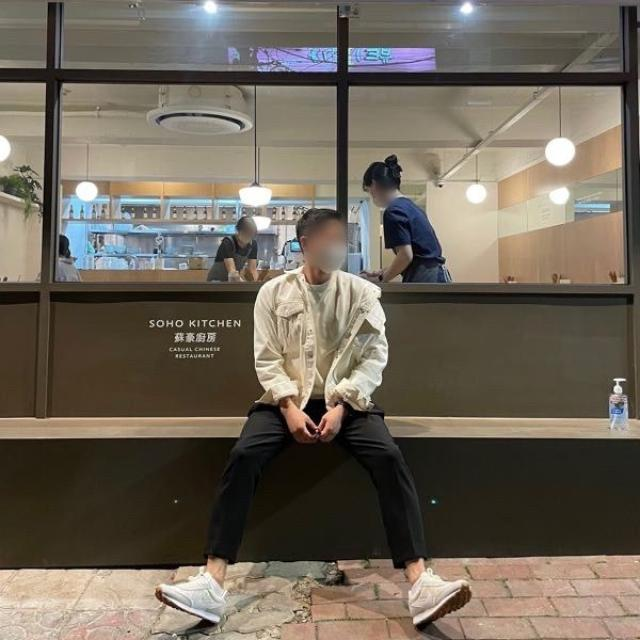jacket: (249, 269, 387, 420)
slacks: (202, 385, 428, 562)
